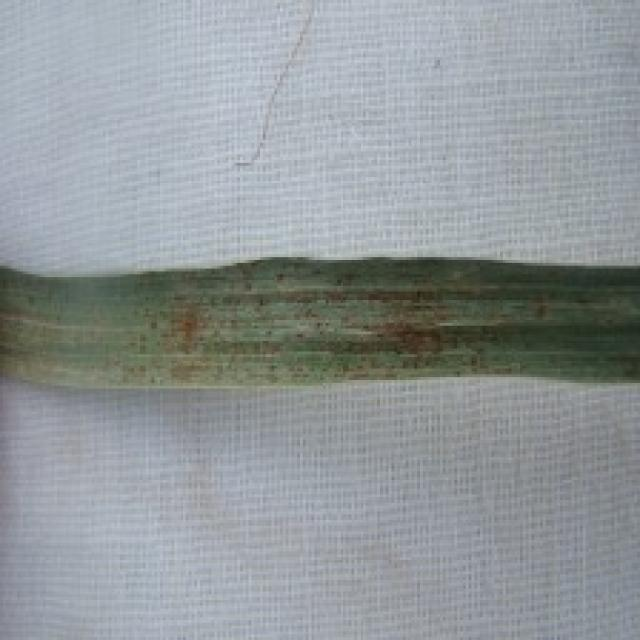Brown_Spot: (378, 314, 468, 378), (334, 277, 460, 317), (157, 304, 219, 353)
